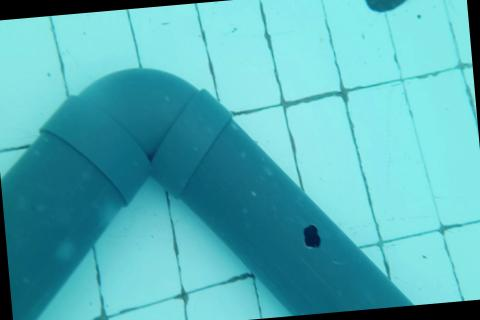kebocoran: (301, 220, 324, 252)
